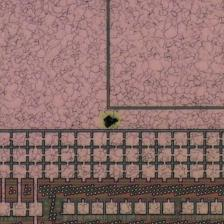PARTICLE: (99, 111, 122, 133)
